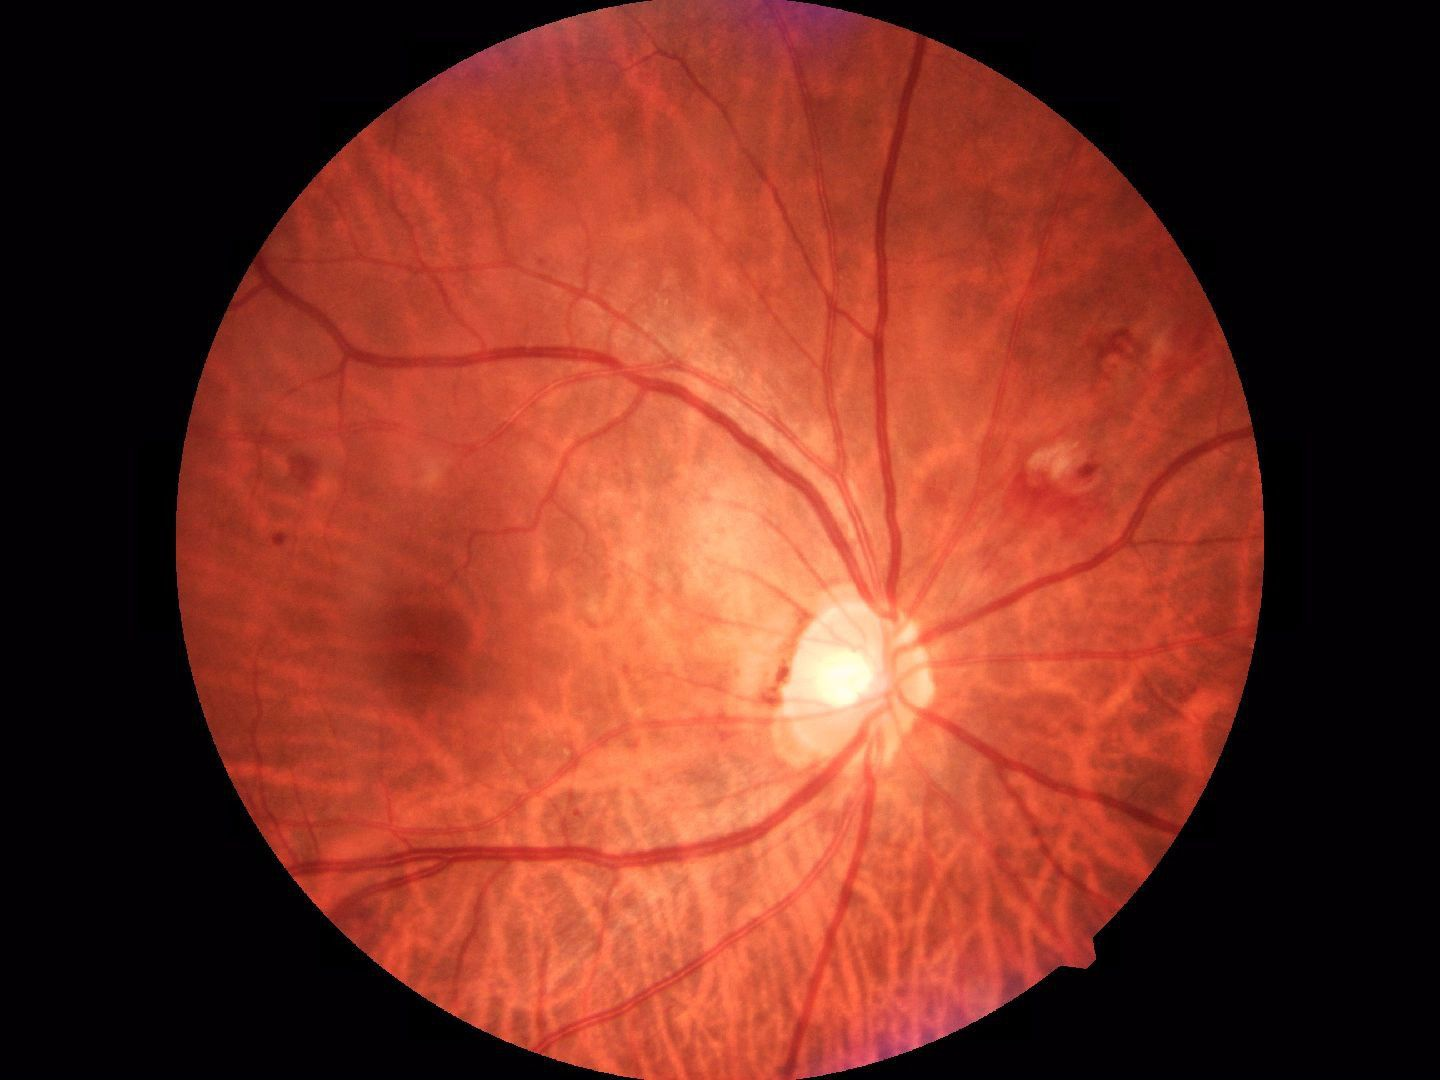Hemorrhages: (359, 562, 537, 694)
Optic-Disc: (763, 583, 940, 765)
Venules: (662, 366, 862, 528), (507, 822, 751, 883)
